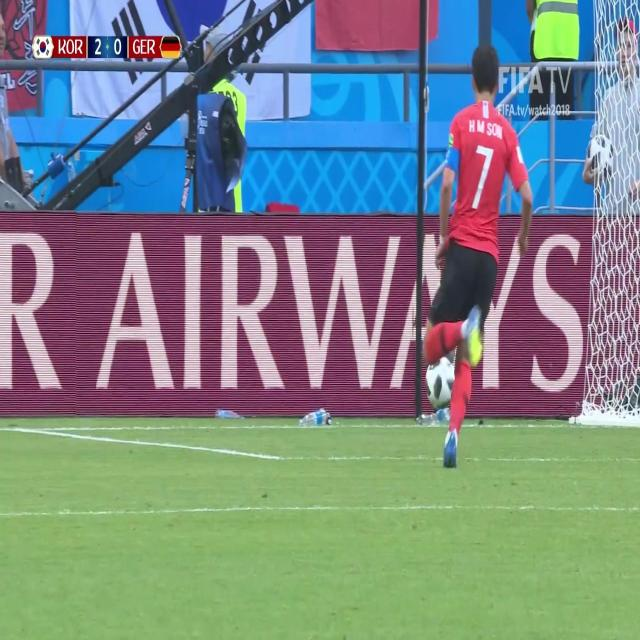ball: (423, 351, 458, 409)
player: (410, 27, 535, 470)
